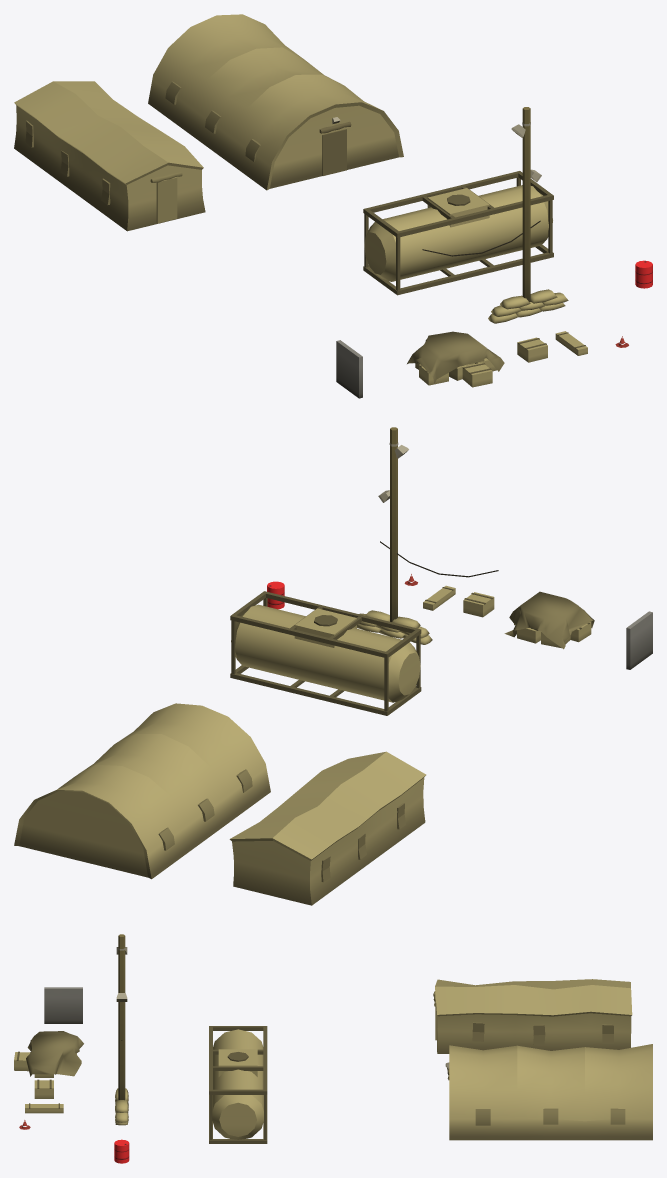
File: Military Base Props.fbx
3 renders of one model, top to bottom at view 1: azimuth 30°, elevation 25°; view 2: azimuth 150°, elevation 25°; view 3: azimuth 270°, elevation 25°, orthographic. The views are drawn at different scales.
Parts seen in each view (by area): view 1: Tent 02, Tent 01, Fuel Tank, Boxes, Post, Sand Bag, Wall, Box 01; view 2: Tent 02, Tent 01, Fuel Tank, Boxes, Post, Wall, Sand Bag; view 3: Tent 02, Tent 01, Fuel Tank, Boxes, Wall, Post, Sand Bag, Box 02, Box 01, Smal Tank.
Boxes of the visible parts, x1,y1,x2,y2 form: Tent 02: (148, 14, 403, 190); Tent 01: (14, 81, 205, 231); Fuel Tank: (363, 171, 553, 295); Boxes: (407, 331, 504, 387); Post: (511, 107, 541, 302); Sand Bag: (488, 289, 568, 323); Wall: (336, 340, 362, 398); Box 01: (517, 337, 547, 362); Tent 02: (14, 703, 270, 879); Tent 01: (229, 751, 426, 905); Fuel Tank: (230, 591, 421, 715); Boxes: (504, 591, 594, 649); Post: (378, 427, 408, 621); Wall: (626, 611, 652, 669); Sand Bag: (357, 610, 432, 644); Tent 02: (445, 1044, 652, 1140); Tent 01: (433, 979, 632, 1053); Fuel Tank: (209, 1026, 267, 1143); Boxes: (14, 1031, 83, 1077); Wall: (44, 987, 82, 1023); Post: (116, 934, 127, 1100); Sand Bag: (115, 1088, 128, 1125); Box 02: (25, 1103, 63, 1113); Box 01: (34, 1079, 53, 1098); Smal Tank: (114, 1139, 129, 1163).
Bounding box in the file's own units: 1747 × 1003 × 3296.
Materials: 1 (1 with a texture image).
